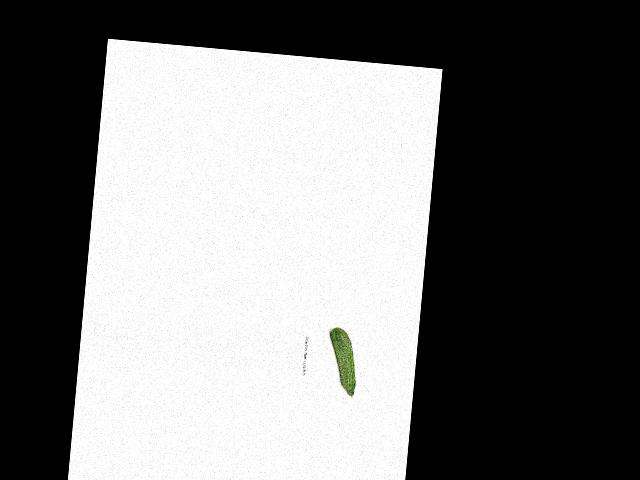cucumber: (324, 327, 360, 397)
